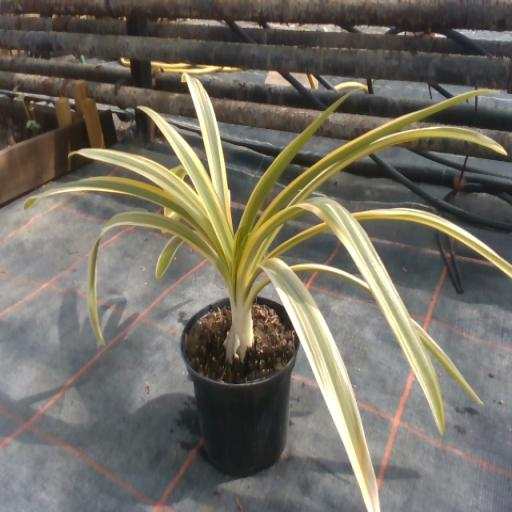Agapanthus-praecox: (247, 197, 443, 432), (257, 91, 477, 226), (263, 258, 379, 511), (235, 94, 348, 249), (290, 129, 506, 206), (143, 107, 232, 265), (353, 208, 511, 278), (78, 150, 211, 228), (182, 74, 232, 234), (26, 176, 187, 217), (414, 320, 482, 403), (100, 213, 212, 258), (290, 263, 370, 291), (269, 223, 328, 256), (155, 237, 182, 277), (90, 246, 97, 317), (170, 167, 186, 178), (165, 208, 180, 218), (162, 229, 170, 233)
